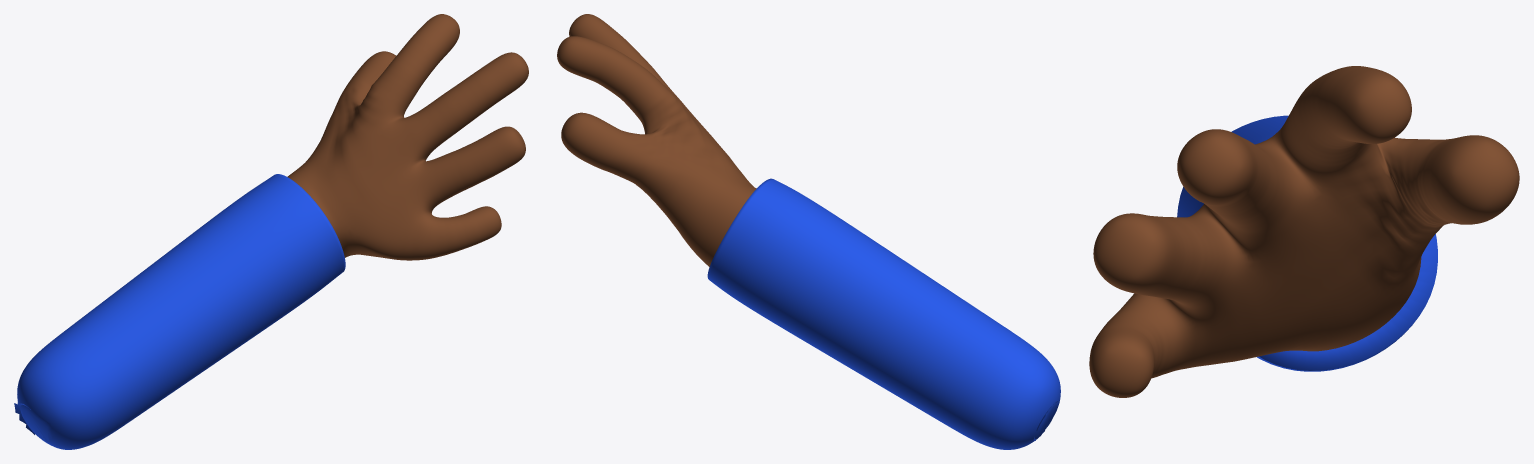
Rendered from rightHand.glb.
3 views of the same model, side by side, from view 1: azimuth 30°, elevation 25°; view 2: azimuth 150°, elevation 25°; view 3: azimuth 270°, elevation 25° (orthographic). The views are drawn at different scales.
Parts seen in each view (by area): view 1: sleeve, Cube; view 2: sleeve, Cube; view 3: Cube, sleeve.
Boxes of the visible parts, x1,y1,x2,y2 form: sleeve: [14, 174, 345, 449]; Cube: [287, 14, 528, 260]; sleeve: [707, 178, 1060, 449]; Cube: [557, 14, 756, 266]; Cube: [1089, 66, 1519, 397]; sleeve: [1177, 115, 1437, 371].
Size of the model in its own units: 0.507 by 0.3138 by 0.1942.
